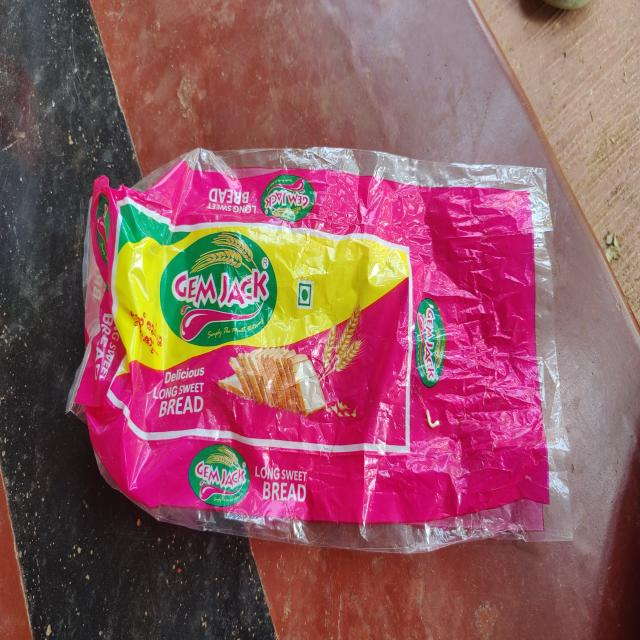plastic: (71, 148, 578, 553)
